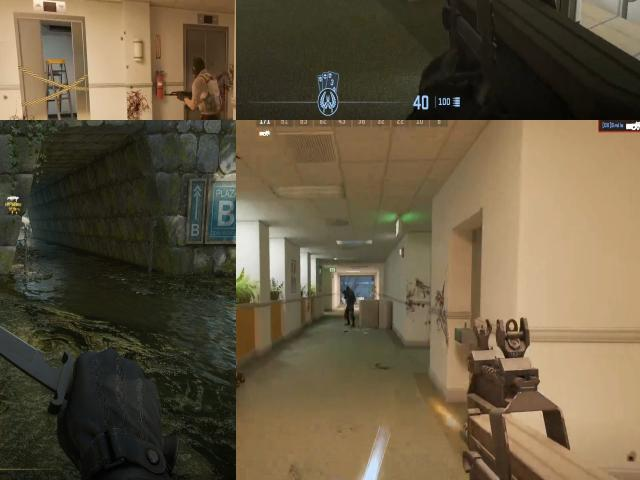CT: (342, 284, 358, 309)
CT-Head: (344, 286, 351, 295)
T: (176, 53, 227, 120)
T-Head: (187, 51, 210, 85)
